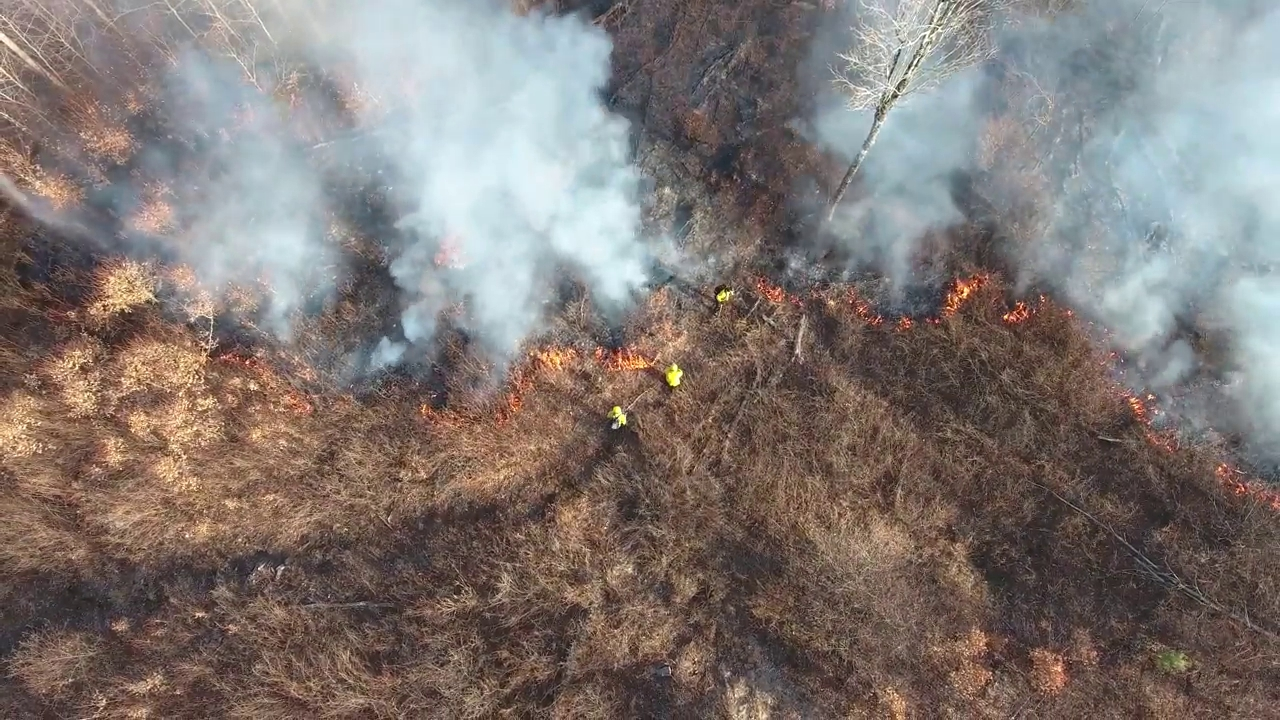forest_fire: (845, 274, 993, 332), (532, 347, 682, 387), (1001, 295, 1047, 326), (755, 278, 803, 307), (1227, 481, 1279, 507), (1120, 390, 1159, 424), (508, 391, 521, 410)
